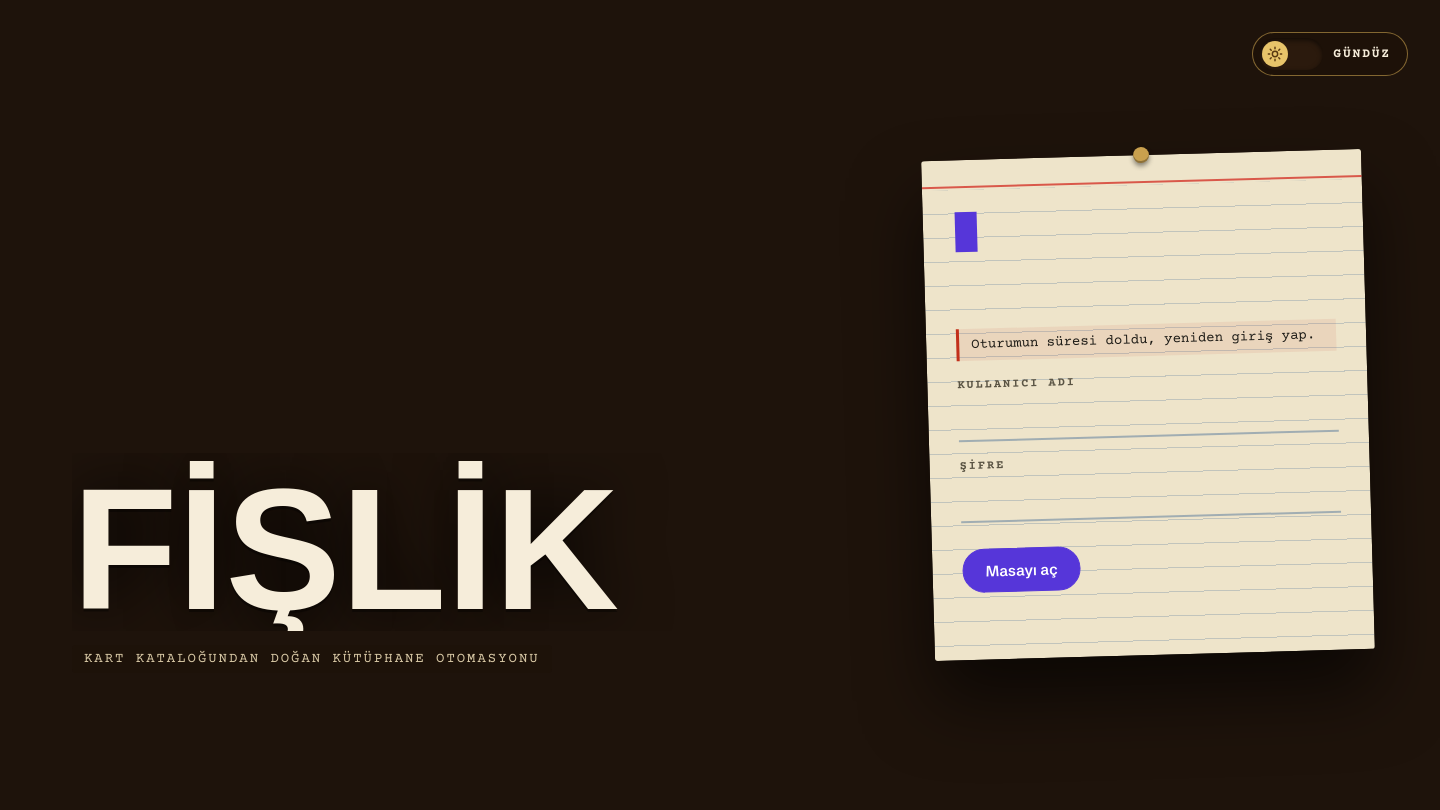
Test: giriş fişi › süre dolduysa uyarır, boş gönderimde istemciyi çağırmaz
This screenshot has width=1440, height=810.
(page scrolled)
Check: the text "Oturumun süresi doldu, yeniden giriş yap." is shown, box 956,319 -> 1336,361
Click the button "Masayı aç": click(1022, 570) 962,546 -> 1081,593
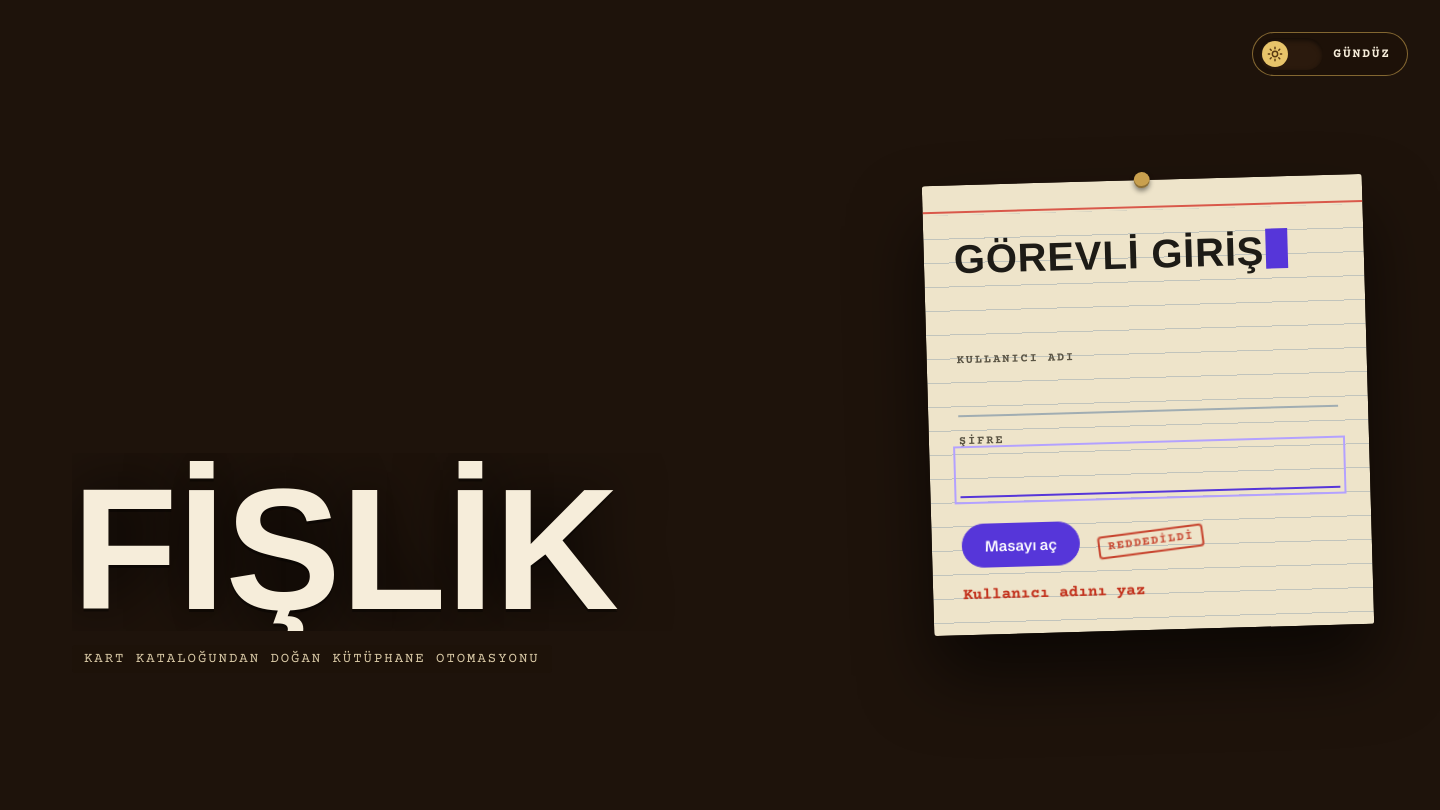
Check: the text "Kullanıcı adını yaz" is shown, box 963,581 -> 1146,604
